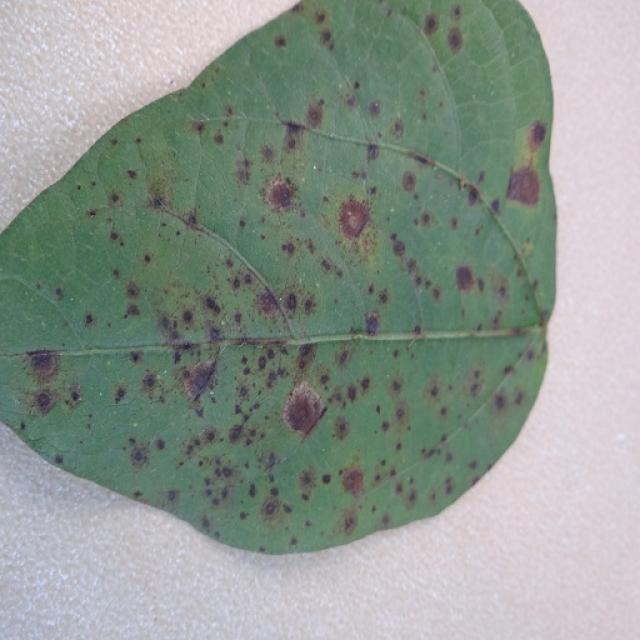Anthracnose: (279, 384, 329, 438), (180, 356, 219, 404), (182, 425, 227, 464), (505, 167, 541, 207), (337, 198, 370, 239), (461, 365, 487, 405), (267, 179, 296, 211), (29, 351, 60, 380), (128, 440, 153, 469), (341, 467, 365, 496), (339, 505, 361, 536), (488, 271, 510, 302), (147, 178, 171, 206), (305, 98, 326, 129), (454, 264, 476, 293), (295, 343, 317, 372), (256, 290, 279, 317), (282, 124, 302, 151), (235, 156, 254, 184), (424, 375, 442, 403), (528, 120, 547, 146), (34, 391, 55, 413), (140, 371, 160, 393), (393, 399, 410, 424), (492, 388, 509, 412), (447, 27, 463, 52), (123, 280, 142, 301), (298, 469, 316, 491), (262, 498, 281, 518), (364, 312, 380, 335), (423, 13, 439, 34), (123, 302, 141, 320), (204, 296, 221, 315), (401, 171, 416, 192), (336, 346, 351, 367), (228, 424, 244, 443), (260, 144, 275, 164), (391, 236, 406, 256), (466, 186, 480, 207), (189, 119, 206, 136), (344, 92, 359, 111), (284, 292, 298, 312), (113, 385, 127, 404), (391, 118, 404, 138), (319, 28, 333, 46), (281, 241, 296, 257), (366, 143, 379, 161), (237, 384, 250, 401), (369, 99, 381, 117), (303, 298, 316, 314), (513, 390, 525, 407), (165, 490, 179, 504), (181, 309, 194, 324), (314, 9, 327, 24), (213, 130, 225, 146), (378, 289, 390, 305), (129, 350, 142, 364), (320, 259, 333, 273), (420, 212, 432, 227), (347, 386, 358, 402), (274, 35, 287, 48), (209, 327, 222, 340), (109, 192, 121, 206), (490, 198, 500, 214), (109, 230, 121, 243), (84, 312, 95, 326), (391, 379, 402, 393), (231, 276, 242, 290), (224, 104, 235, 118), (257, 355, 267, 370), (186, 213, 198, 225), (319, 373, 330, 386), (452, 5, 462, 19), (321, 473, 332, 485), (126, 169, 138, 180), (86, 209, 98, 220), (70, 390, 81, 402), (248, 484, 257, 498), (269, 486, 280, 497), (54, 287, 64, 299), (54, 453, 64, 465), (234, 312, 243, 324), (143, 253, 152, 263), (413, 325, 422, 335), (353, 80, 361, 90), (290, 537, 298, 546), (239, 219, 246, 228)
Blackgram: (0, 0, 555, 552)
